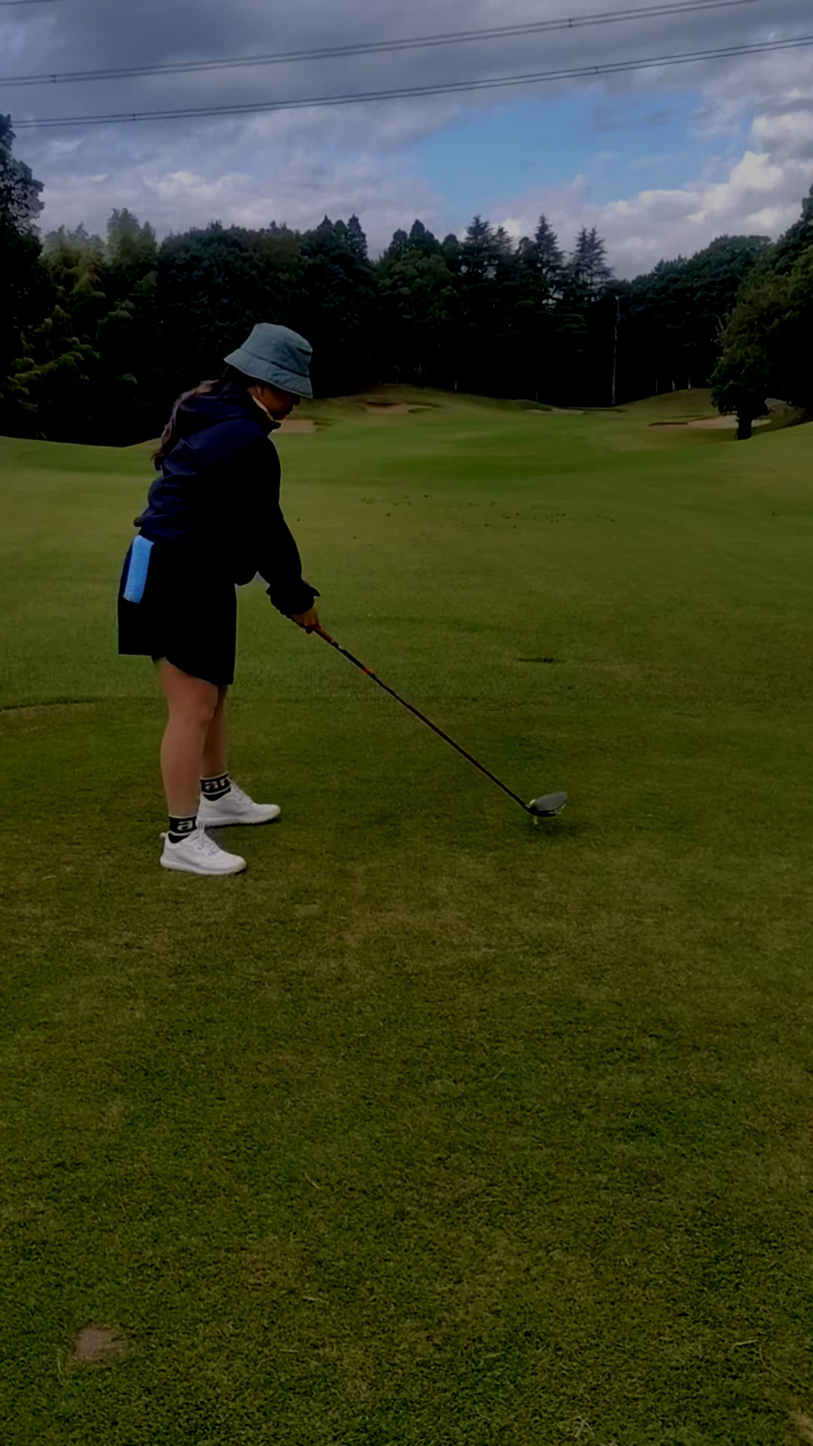clubhead: (465, 744, 659, 954)
